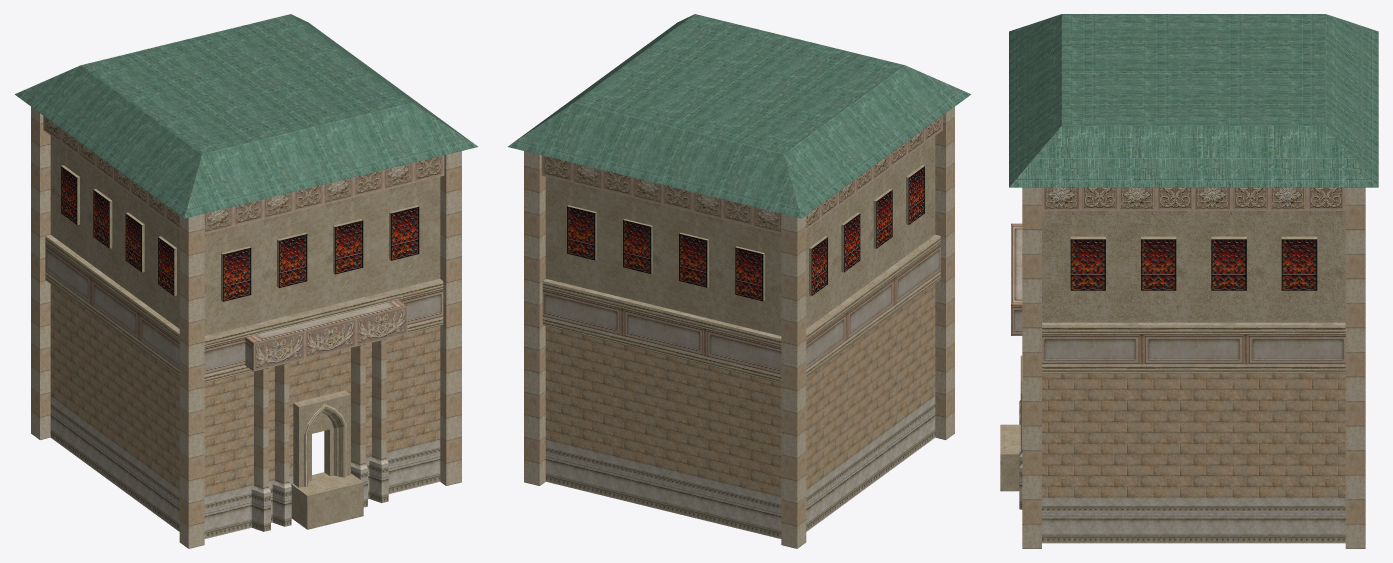
The model's file is thm_nboo_thed_imprv_building_s04_r0_mesh_l1.fbx.
The picture shows the model from 3 angles, left to right: view 1: azimuth 30°, elevation 25°; view 2: azimuth 150°, elevation 25°; view 3: azimuth 270°, elevation 25°; orthographic projection. The views are drawn at different scales.
Parts seen in each view (by area): view 1: mesh_node; view 2: mesh_node; view 3: mesh_node.
Part boxes in pixels (x1=…): mesh_node: x1=15, y1=14, x2=477, y2=548; mesh_node: x1=508, y1=14, x2=970, y2=548; mesh_node: x1=1000, y1=14, x2=1378, y2=548.
Bounding box in the file's own units: 21 × 25.5 × 21.5.
